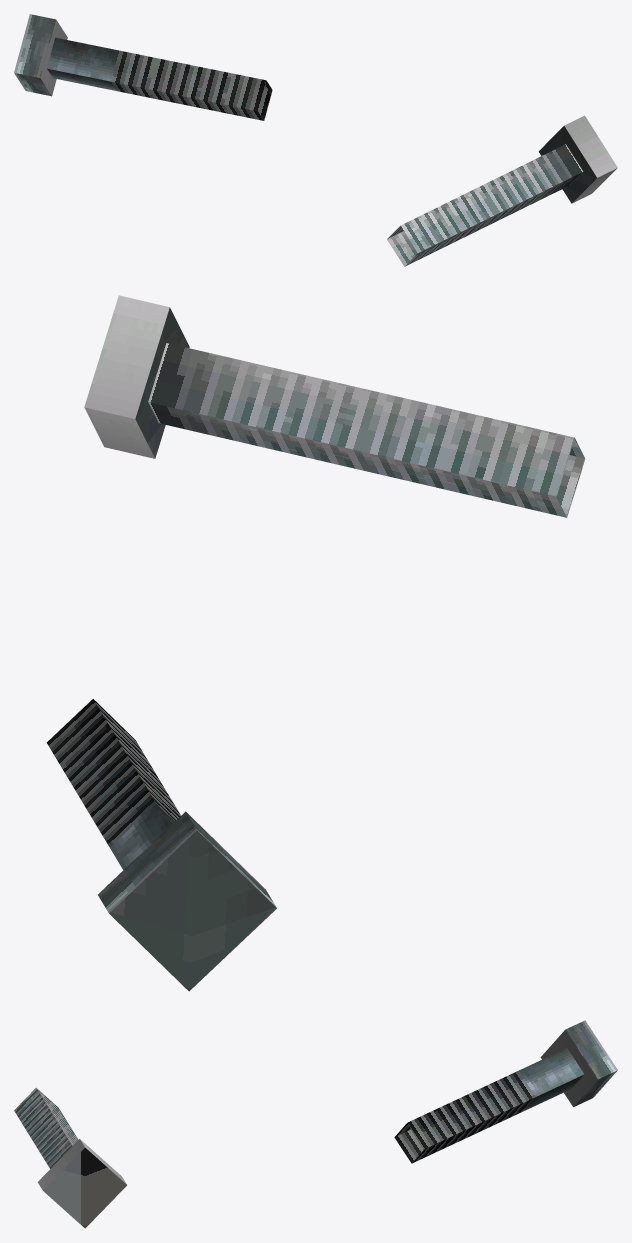
Rendered from bolts.fbx.
3 renders of one model, top to bottom at view 1: azimuth 30°, elevation 25°; view 2: azimuth 150°, elevation 25°; view 3: azimuth 270°, elevation 25°, orthographic. The views are drawn at different scales.
Parts seen in each view (by area): view 1: mesh_0, mesh_1; view 2: mesh_1, mesh_0; view 3: mesh_0, mesh_1.
Boxes of the visible parts, left/top/right/bottom form: mesh_0: left=14, top=14, right=272, bottom=120; mesh_1: left=387, top=115, right=617, bottom=266; mesh_1: left=84, top=295, right=585, bottom=517; mesh_0: left=46, top=699, right=276, bottom=991; mesh_0: left=394, top=1020, right=617, bottom=1163; mesh_1: left=14, top=1087, right=126, bottom=1228.
Size of the model in its own units: 14.02 by 3.81 by 22.36.
1 material, 1 textured.
